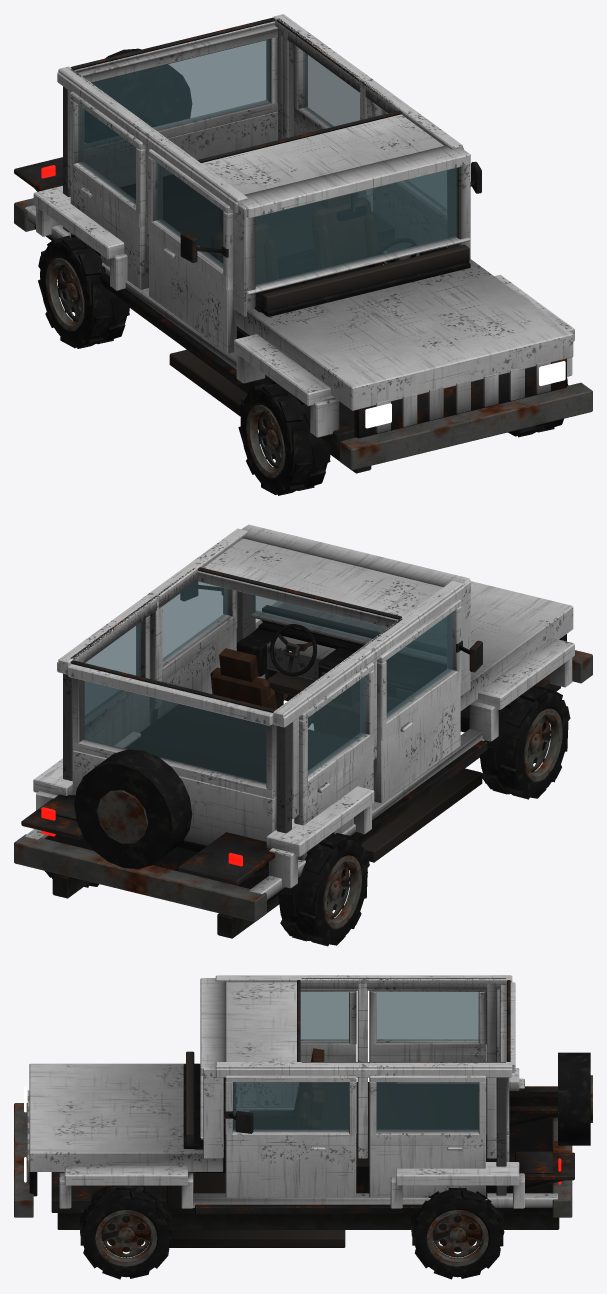
Rendered from player_hummer_t1.glb.
3 views of the same model, one above another, from view 1: azimuth 30°, elevation 25°; view 2: azimuth 150°, elevation 25°; view 3: azimuth 270°, elevation 25° (orthographic). The views are drawn at different scales.
Parts seen in each view (by area): view 1: body, panel_hood, panel_trunk, panel_windshield, panel_door_R, panel_door_R2, panel_bumper_F, wheel_FR, wheel_RR, panel_door_L, panel_door_L2; view 2: body, panel_trunk, panel_door_R, panel_hood, panel_door_R2, panel_bumper_R, wheel_FR, wheel_RR, panel_door_L, panel_door_L2, panel_windshield, steering_wheel_mesh (+1 smaller); view 3: body, panel_hood, panel_door_L, panel_door_L2, panel_door_R2, wheel_FL, wheel_RL, panel_door_R, panel_trunk, panel_bumper_F, panel_bumper_R.
Boxes of the visible parts, x1,y1,x2,y2 form: body: [14, 14, 574, 473]; panel_hood: [235, 258, 573, 410]; panel_trunk: [77, 24, 278, 187]; panel_windshield: [255, 168, 457, 286]; panel_door_R: [148, 149, 236, 353]; panel_door_R2: [69, 91, 148, 289]; panel_bumper_F: [340, 382, 592, 470]; wheel_FR: [238, 381, 330, 495]; wheel_RR: [38, 234, 129, 348]; panel_door_L: [372, 102, 481, 260]; panel_door_L2: [293, 45, 372, 211]; body: [21, 524, 574, 938]; panel_trunk: [72, 678, 276, 869]; panel_door_R: [373, 599, 482, 802]; panel_hood: [236, 581, 573, 710]; panel_door_R2: [294, 662, 374, 860]; panel_bumper_R: [14, 834, 266, 921]; wheel_FR: [479, 685, 570, 799]; wheel_RR: [278, 832, 369, 946]; panel_door_L: [150, 580, 237, 724]; panel_door_L2: [85, 615, 150, 745]; panel_windshield: [253, 595, 446, 660]; steering_wheel_mesh: [269, 624, 316, 676]; body: [24, 975, 574, 1247]; panel_hood: [29, 1063, 223, 1171]; panel_door_L: [224, 1075, 356, 1197]; panel_door_L2: [369, 1075, 486, 1197]; panel_door_R2: [369, 990, 486, 1061]; wheel_FL: [79, 1185, 172, 1279]; wheel_RL: [411, 1188, 504, 1279]; panel_door_R: [236, 990, 356, 1106]; panel_trunk: [500, 985, 592, 1186]; panel_bumper_F: [14, 1103, 33, 1217]; panel_bumper_R: [552, 1117, 572, 1217].
Size of the model in its own units: 2.59 by 2.06 by 5.31.
Materials: 12 (8 with a texture image).
